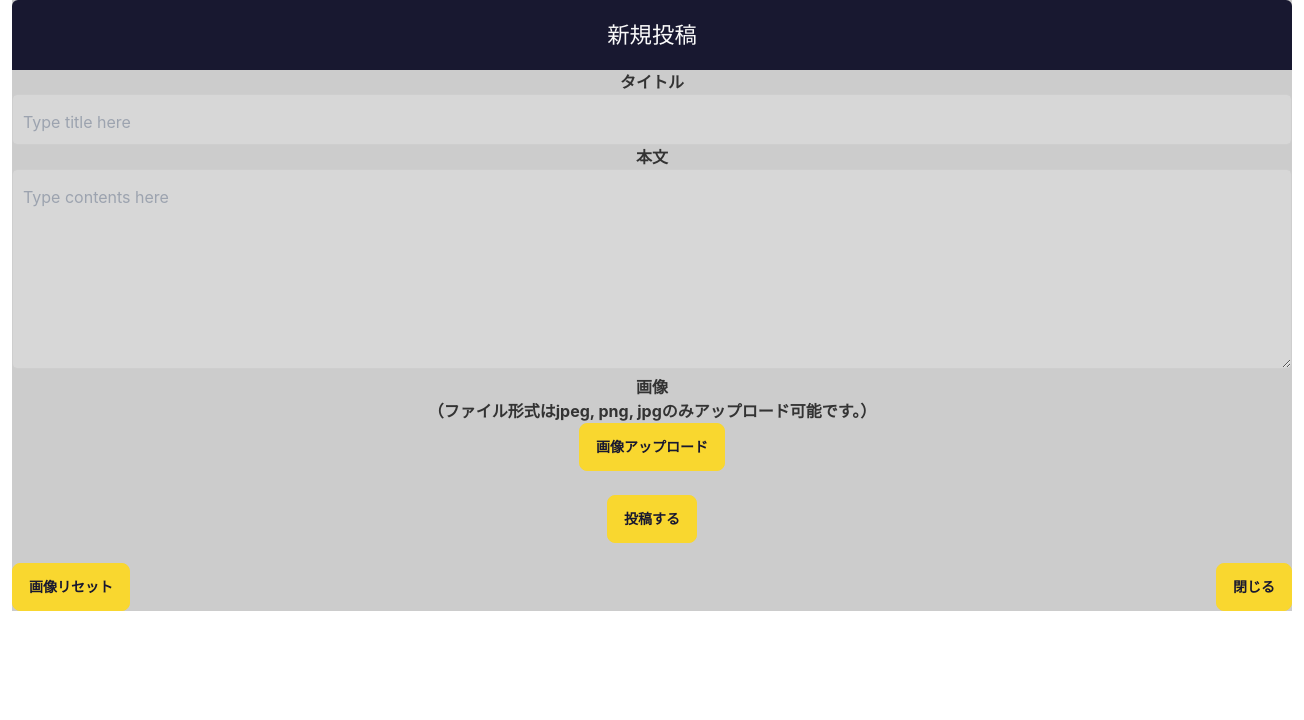
it: Form title › タイトルが空の場合、エラーメッセージを表示
The image size is (1304, 720).
Type "テスト文章" into the text box with placeholder "Type contents here".
click(652, 269); type("テスト文章")  # box [12,169,1292,369]
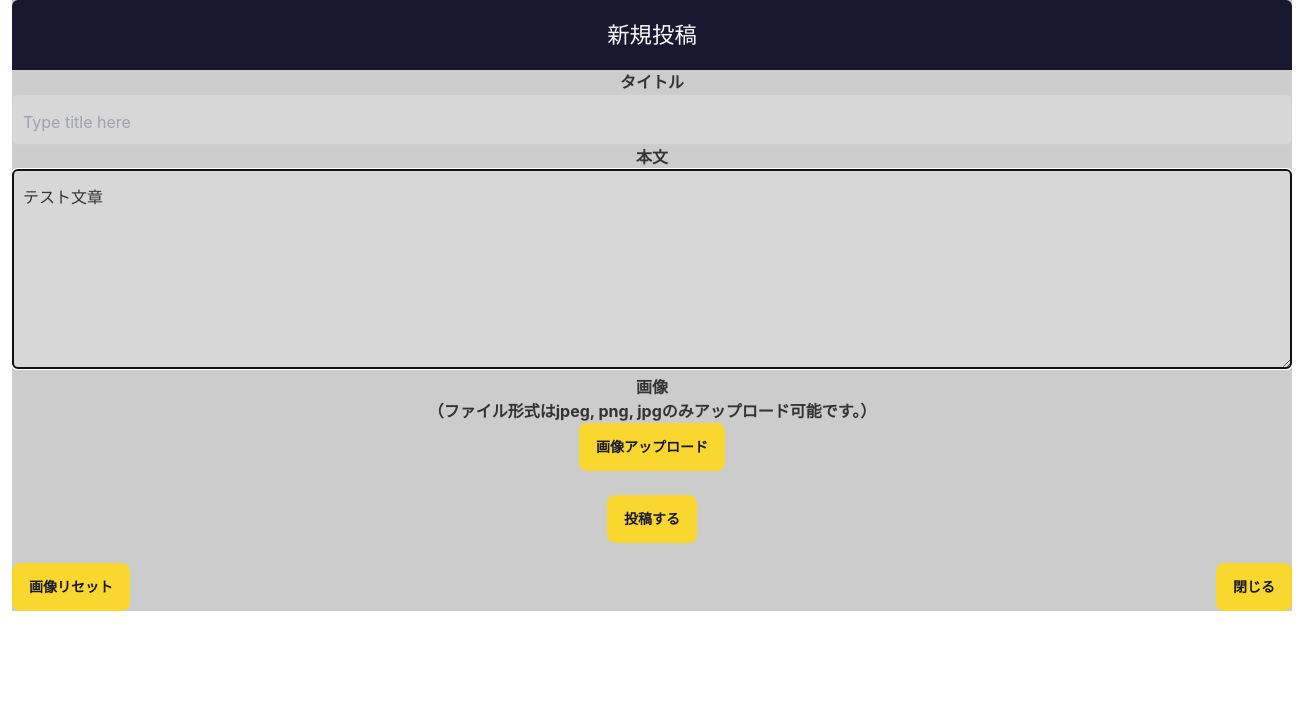
Click the button "投稿する".
click(652, 519)  # box [607,495,697,543]
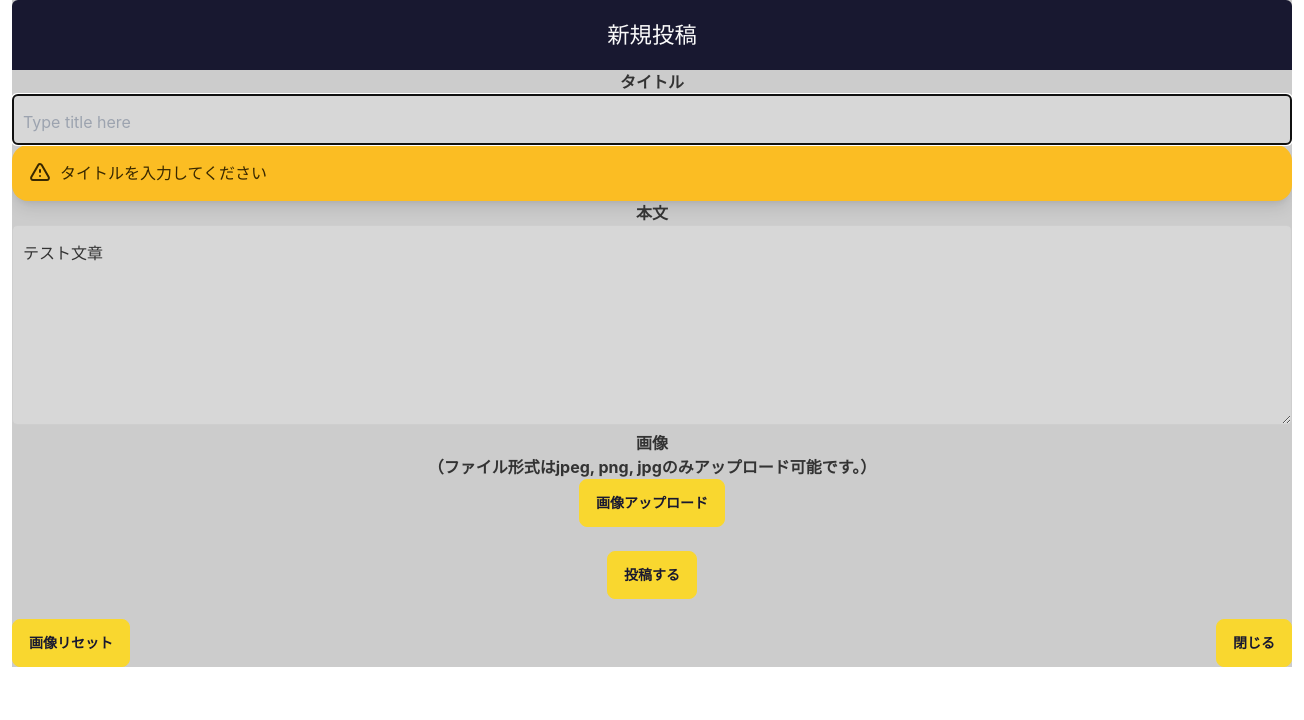
Result: the text "タイトルを入力してください" is shown at [60,161,267,185]
